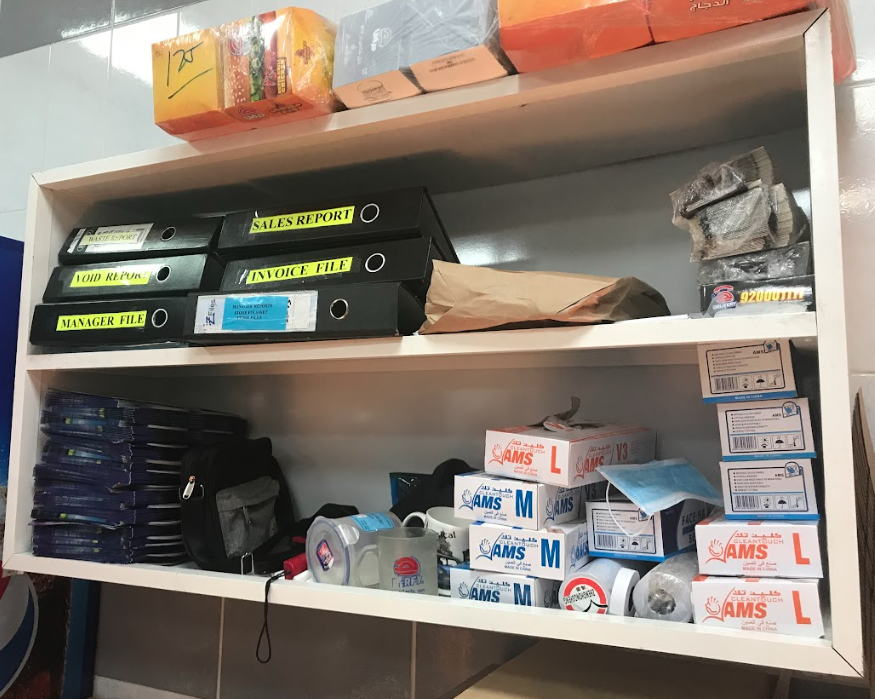Aluminum Shelves: (6, 26, 875, 692)
